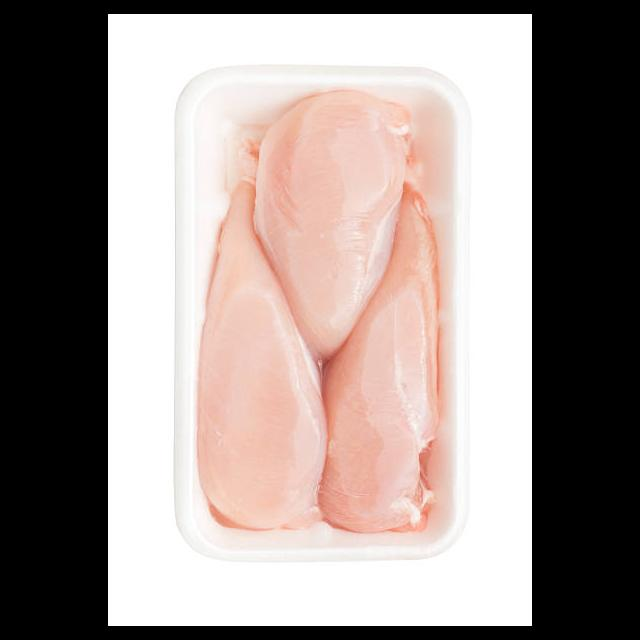chicken: (197, 131, 330, 532), (252, 87, 415, 360), (328, 180, 446, 537)
